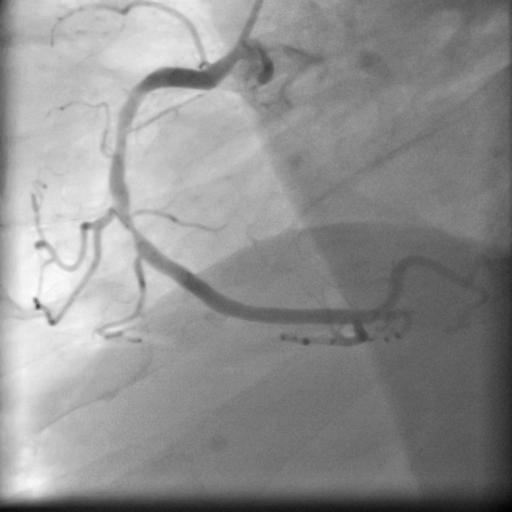Stenosis: (111, 202, 142, 246)
